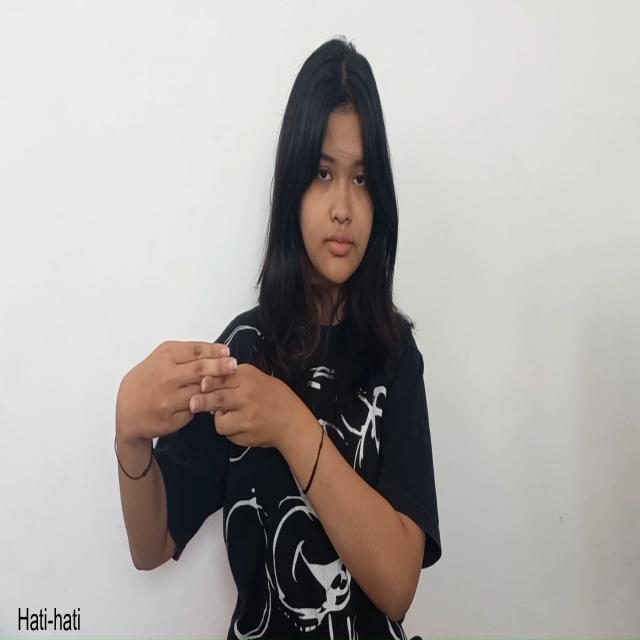Hati-hati -BISINDO-: (114, 338, 295, 452)
